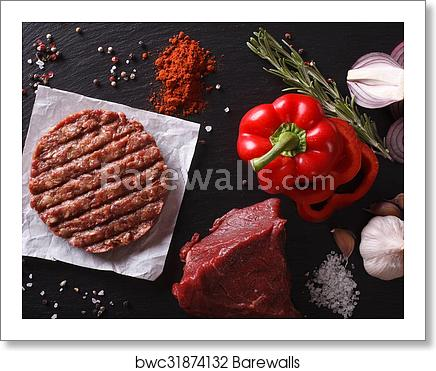ground_beef: (25, 108, 163, 241), (170, 199, 317, 319)
